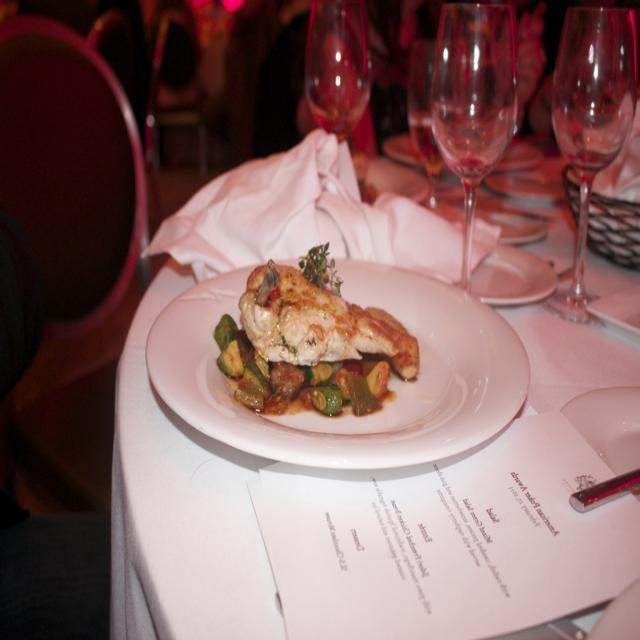ceramic plate: (128, 189, 554, 497)
